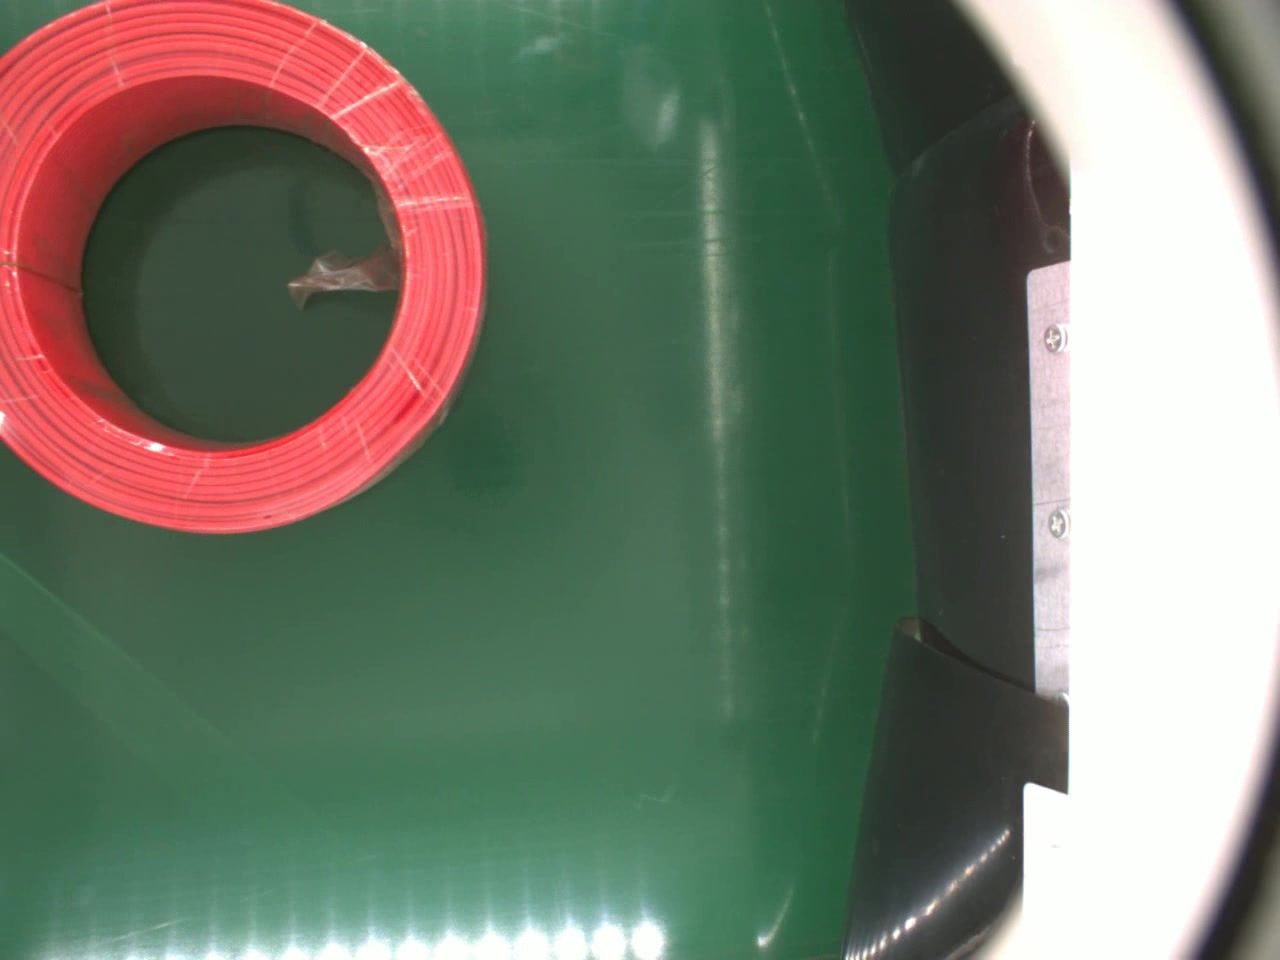red: (0, 0, 485, 538)
